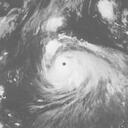cyclone: (40, 35, 98, 94)
